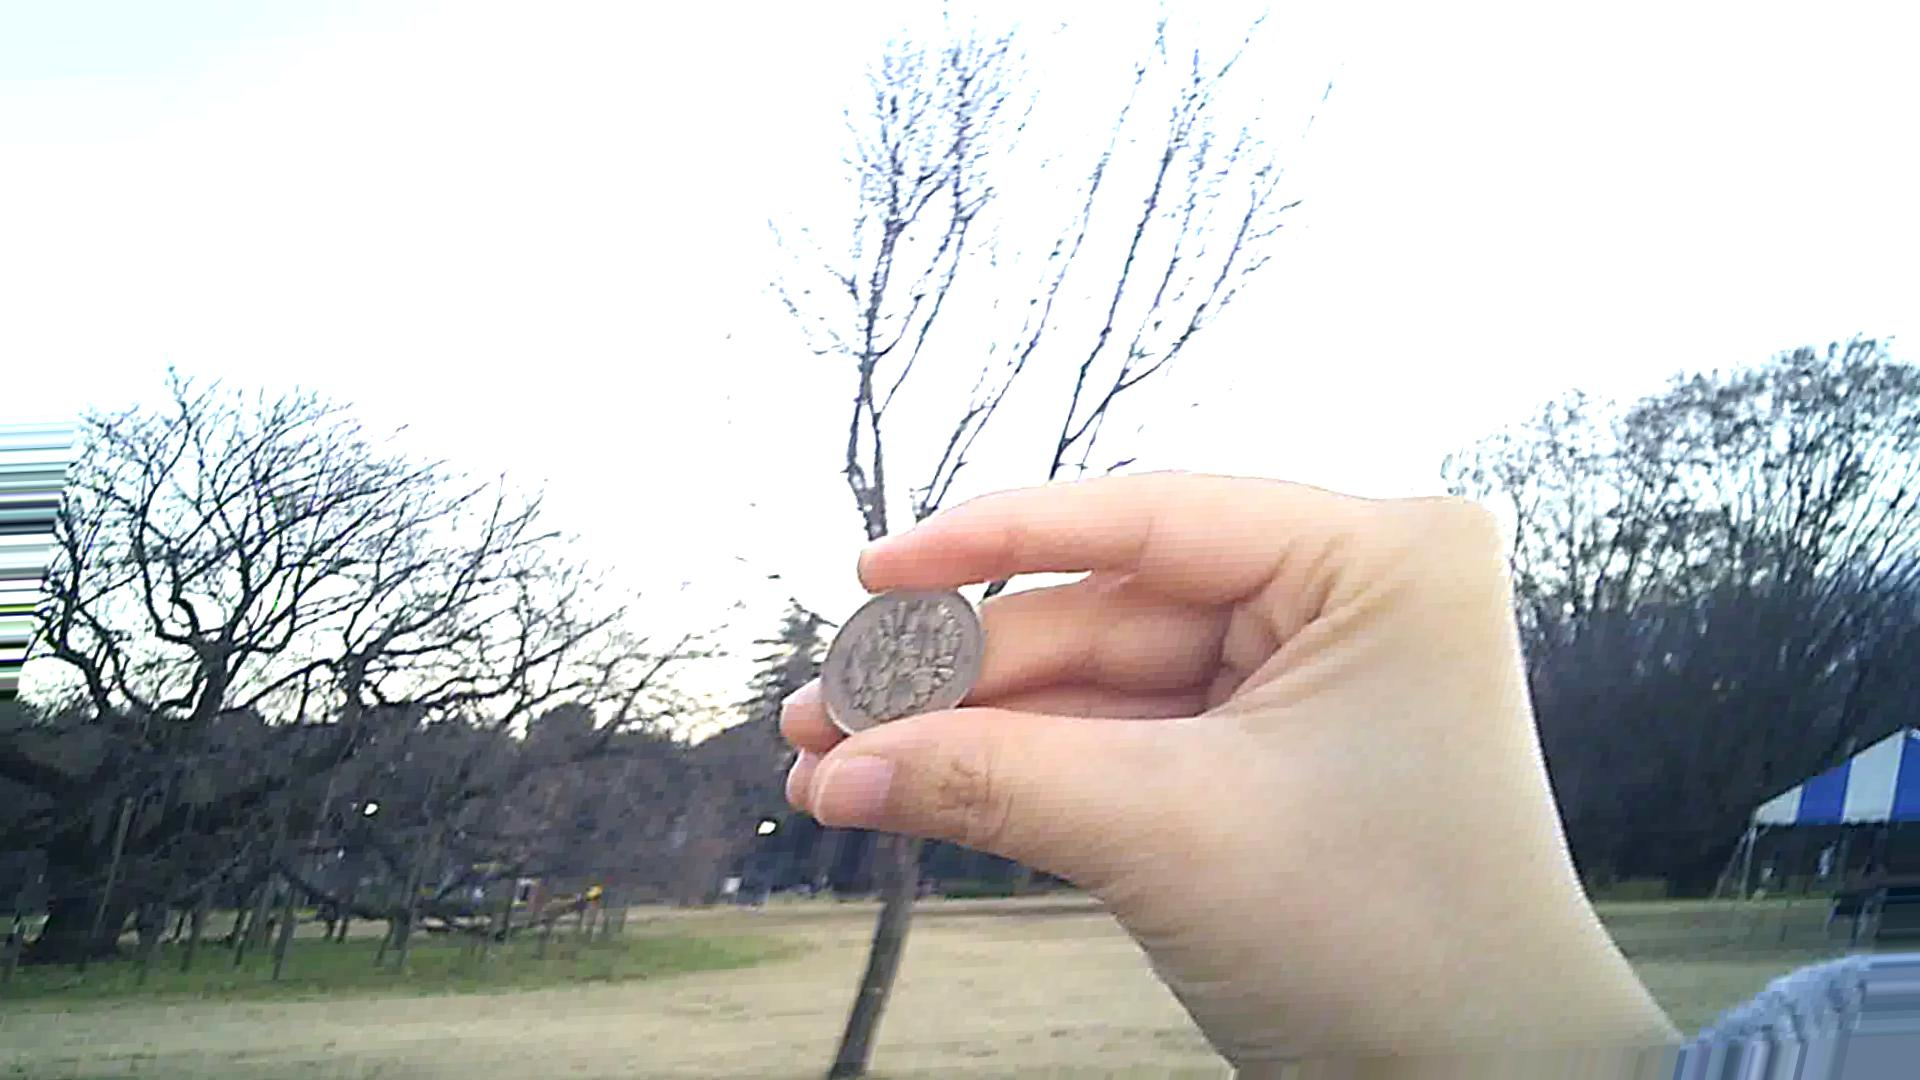100 Yen: (808, 582, 997, 733)
